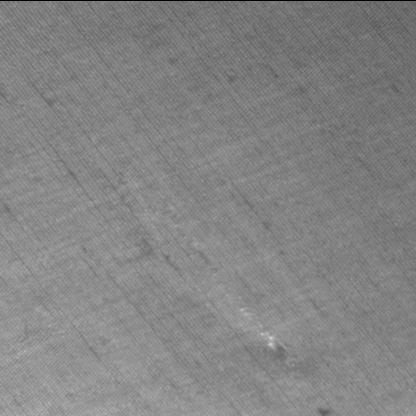thread error: (159, 201, 303, 373)
